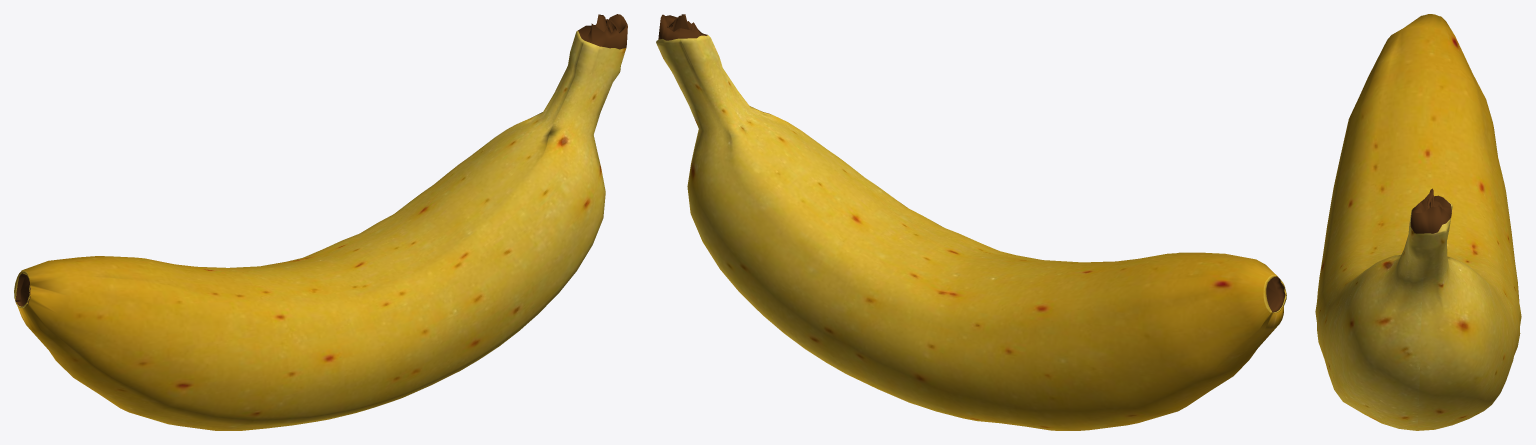
File: Banan 2 ( Super Banner ).glb
3 renders of one model, left to right at view 1: azimuth 30°, elevation 25°; view 2: azimuth 150°, elevation 25°; view 3: azimuth 270°, elevation 25°, orthographic. The views are drawn at different scales.
Visible parts, largest first — view 1: Banan; view 2: Banan; view 3: Banan.
Part boxes in pixels (x1,y1,x2,y2): Banan: [14, 14, 627, 430]; Banan: [656, 14, 1286, 430]; Banan: [1315, 14, 1521, 430].
Bounding box in the file's own units: 0.5259 × 0.266 × 0.1442.
2 materials, 2 textured.
